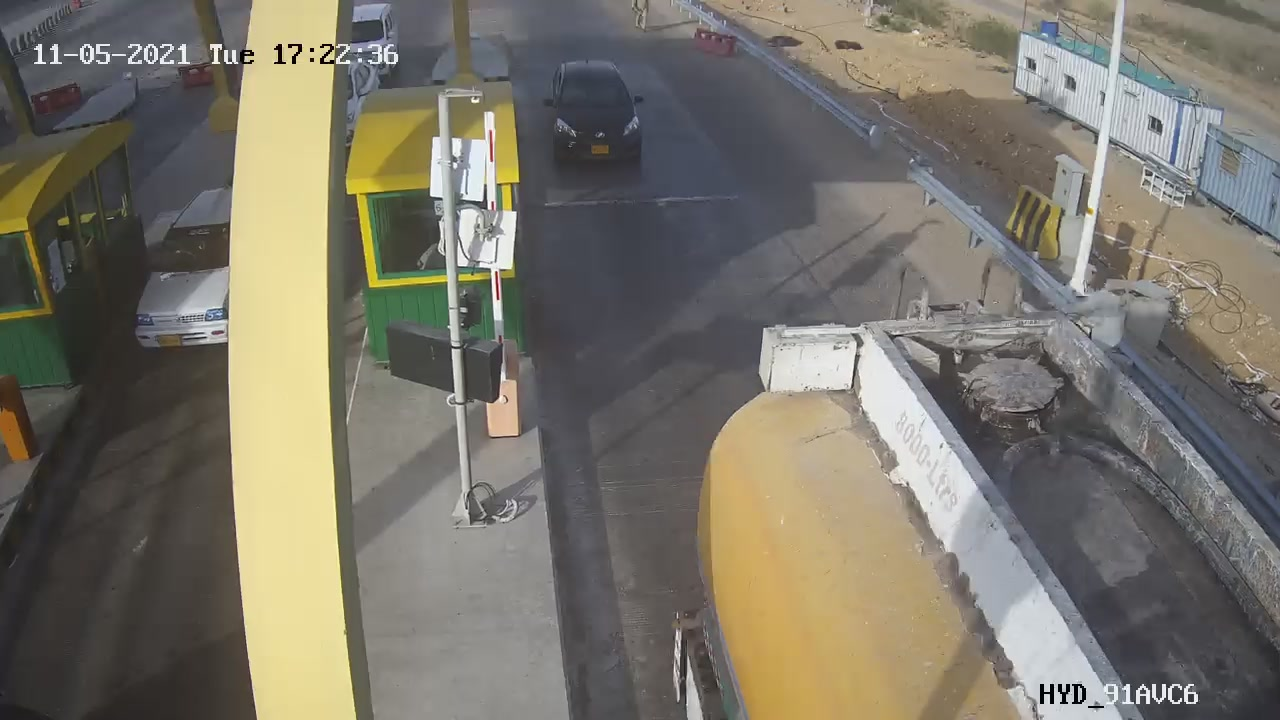F1: (533, 49, 661, 185)
